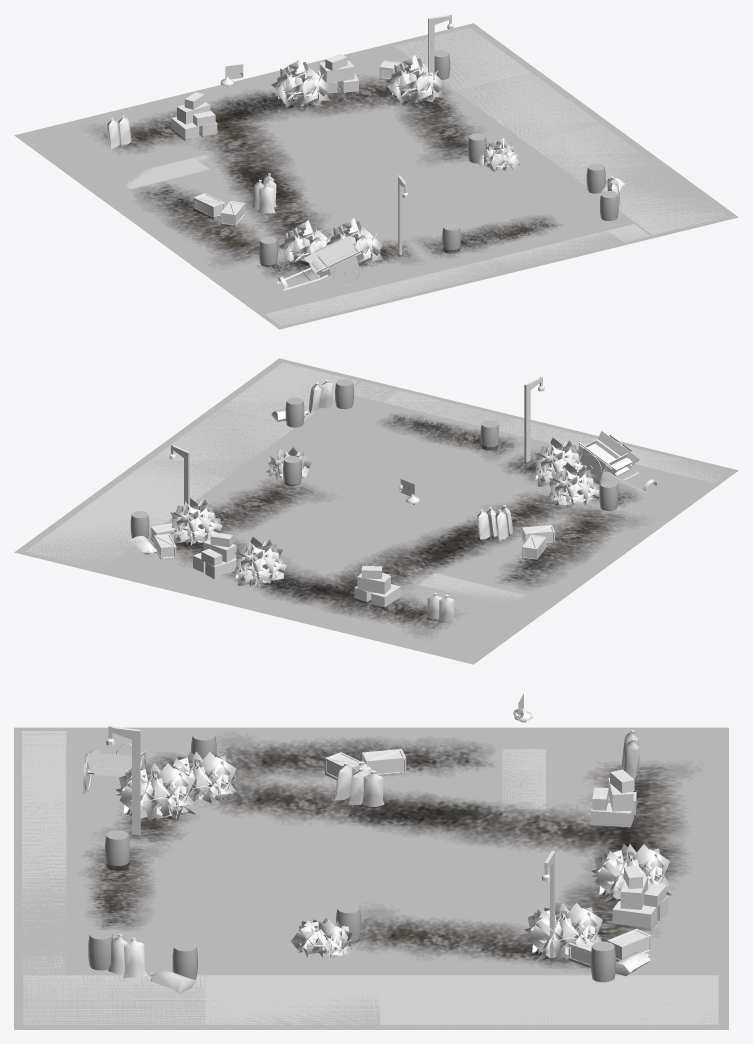
File: propsonly_malt-single.gltf
3 renders of one model, top to bottom at view 1: azimuth 30°, elevation 25°; view 2: azimuth 150°, elevation 25°; view 3: azimuth 270°, elevation 25°, orthographic. The views are drawn at different scales.
Parts seen in each view (by area): view 1: FeedbackBlocker.005, file_b2_ground3.015, file_b2_ground1.019, file_b2_ground1.024, file_b2_ground1.018, file_b2_ground3.021, file_b12_ground.009, file_b2_ground1.021, file_b2_ground1.017, file_b2_ground3.019, file_b2_ground3.020, file_b12_ground.001 (+30 smaller); view 2: FeedbackBlocker.005, file_b2_ground1.022, file_b2_ground1.019, file_b2_ground1.021, file_b2_ground3.015, file_b2_ground3.021, file_b2_ground3.019, file_b12_ground.001, file_b2_ground1.017, file_b2_ground1.018, file_b2_ground1.023, file_b12_ground.009 (+30 smaller); view 3: FeedbackBlocker.005, file_b2_ground3.015, file_b2_ground1.019, file_b2_ground1.021, file_b2_ground1.017, file_b2_ground3.021, file_b2_ground1.022, file_b12_ground.009, file_b2_ground3.019, file_b2_ground1.020, file_b2_ground1.023, file_b2_ground1.018 (+37 smaller).
Part boxes in pixels (bbox=[...]): FeedbackBlocker.005: bbox=[395, 28, 726, 234]; file_b2_ground3.015: bbox=[304, 102, 488, 179]; file_b2_ground1.019: bbox=[439, 200, 626, 274]; file_b2_ground1.024: bbox=[422, 71, 608, 145]; file_b2_ground1.018: bbox=[368, 146, 561, 223]; file_b2_ground3.021: bbox=[14, 108, 192, 182]; file_b12_ground.009: bbox=[551, 165, 738, 244]; file_b2_ground1.021: bbox=[191, 128, 367, 199]; file_b2_ground1.017: bbox=[271, 175, 447, 241]; file_b2_ground3.019: bbox=[126, 78, 308, 158]; file_b2_ground3.020: bbox=[208, 258, 402, 329]; file_b12_ground.001: bbox=[512, 118, 673, 192]; FeedbackBlocker.005: bbox=[25, 362, 357, 569]; file_b2_ground1.022: bbox=[415, 540, 608, 617]; file_b2_ground1.019: bbox=[326, 386, 514, 467]; file_b2_ground1.021: bbox=[304, 508, 487, 582]; file_b2_ground3.015: bbox=[216, 483, 373, 554]; file_b2_ground3.021: bbox=[351, 589, 541, 664]; file_b2_ground3.019: bbox=[238, 560, 426, 636]; file_b12_ground.001: bbox=[150, 405, 326, 487]; file_b2_ground1.017: bbox=[385, 460, 550, 542]; file_b2_ground1.018: bbox=[273, 433, 438, 510]; file_b2_ground1.023: bbox=[492, 488, 673, 568]; file_b12_ground.009: bbox=[208, 358, 402, 439]; FeedbackBlocker.005: bbox=[23, 975, 718, 1024]; file_b2_ground3.015: bbox=[362, 875, 549, 955]; file_b2_ground1.019: bbox=[14, 875, 205, 955]; file_b2_ground1.021: bbox=[362, 801, 554, 874]; file_b2_ground1.017: bbox=[190, 801, 380, 882]; file_b2_ground3.021: bbox=[537, 727, 728, 808]; file_b2_ground1.022: bbox=[362, 727, 554, 808]; file_b12_ground.009: bbox=[14, 948, 205, 1029]; file_b2_ground3.019: bbox=[537, 801, 728, 874]; file_b2_ground1.020: bbox=[14, 801, 205, 882]; file_b2_ground1.023: bbox=[188, 727, 380, 808]; file_b2_ground1.018: bbox=[205, 875, 368, 955].
Size of what is drawn, in the model's own units: 4.1 by 0.9485 by 4.16.
